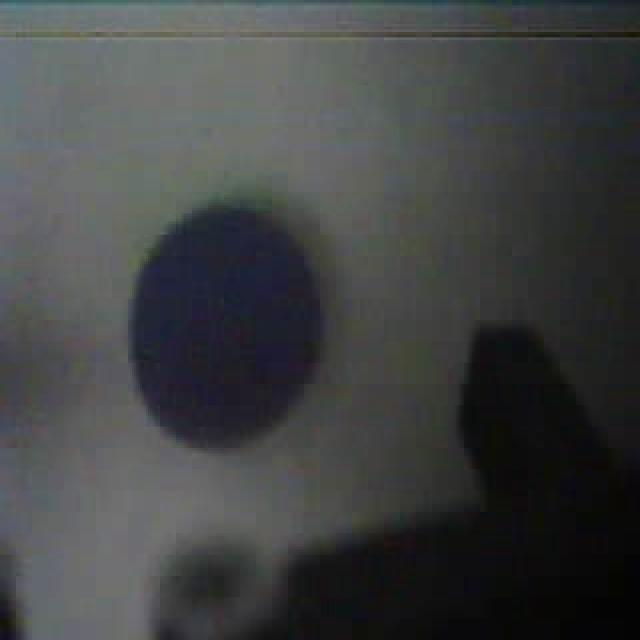blue_ball: (126, 195, 328, 453)
